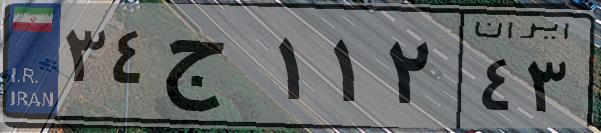1: (270, 28, 330, 110), (330, 28, 385, 110)
2: (385, 28, 445, 110)
3: (57, 26, 110, 100), (525, 38, 570, 115)
4: (475, 38, 525, 113), (110, 28, 158, 98)
ج: (158, 20, 270, 120)
